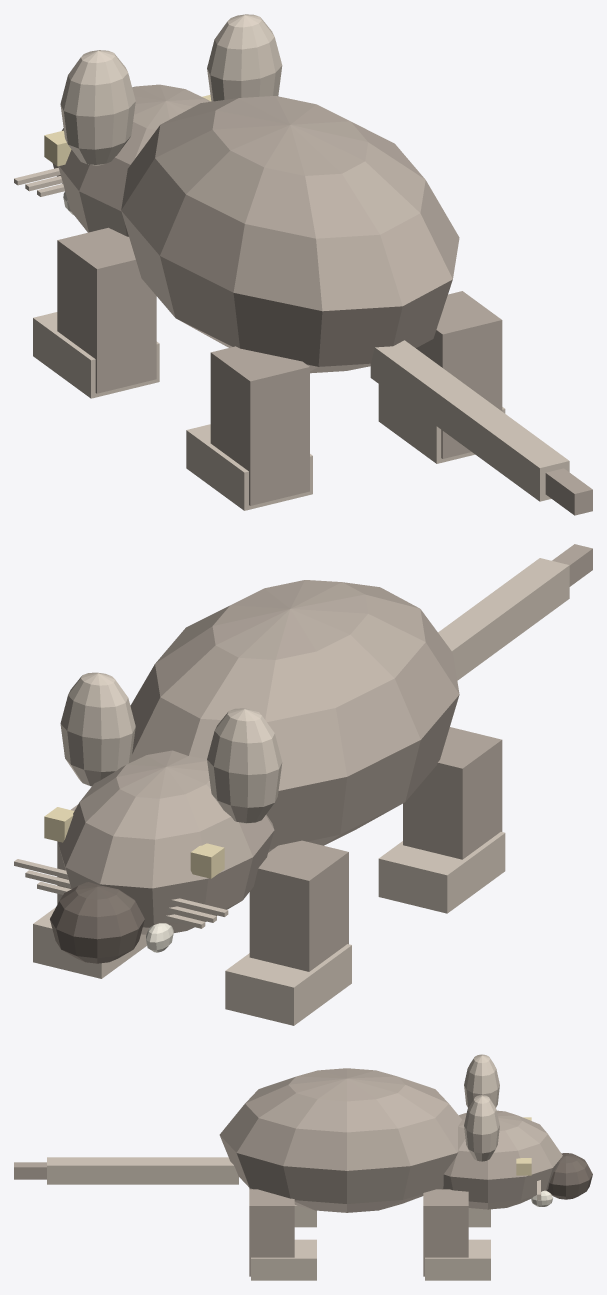
The model's file is rat.gltf.
3 renders of one model, top to bottom at view 1: azimuth 30°, elevation 25°; view 2: azimuth 150°, elevation 25°; view 3: azimuth 270°, elevation 25°, orthographic. The views are drawn at different scales.
Parts seen in each view (by area): view 1: Part1, Part17, Part15, Part25, Part2, Part13, Part23, Part19, Part16, Part18, Part24, Part26 (+1 smaller); view 2: Part1, Part2, Part15, Part17, Part25, Part13, Part18, Part19, Part16, Part3, Part22, Part14 (+3 smaller); view 3: Part1, Part2, Part25, Part21, Part23, Part22, Part24, Part19, Part3, Part13, Part26, Part18 (+1 smaller).
Part boxes in pixels (x1,y1,x2,y2): Part1: (121,96,459,373); Part17: (210,346,309,505); Part15: (57,227,156,393); Part25: (370,340,569,501); Part2: (58,84,210,236); Part13: (60,50,135,165); Part23: (416,291,502,458); Part19: (207,14,282,101); Part16: (33,312,159,398); Part18: (186,424,312,510); Part24: (378,384,505,463); Part26: (545,468,592,515); Part1: (130,580,459,852); Part2: (58,750,274,934); Part15: (249,840,348,971); Part17: (403,727,502,859); Part25: (438,558,569,680); Part13: (207,708,282,823); Part18: (378,832,505,913); Part19: (60,672,135,786); Part16: (225,944,351,1025); Part3: (50,882,144,963); Part22: (33,907,146,978); Part14: (190,843,224,878); Part1: (219,1068,461,1212); Part2: (442,1110,562,1209); Part25: (47,1157,238,1184); Part21: (423,1189,468,1276); Part23: (249,1189,294,1276); Part22: (425,1239,490,1280); Part24: (251,1239,316,1280); Part19: (464,1095,499,1161); Part3: (546,1153,592,1199); Part13: (464,1054,499,1107); Part26: (14,1162,46,1179); Part18: (294,1205,316,1227).
Bounding box in the file's own units: 0.57 × 0.62 × 1.93.
